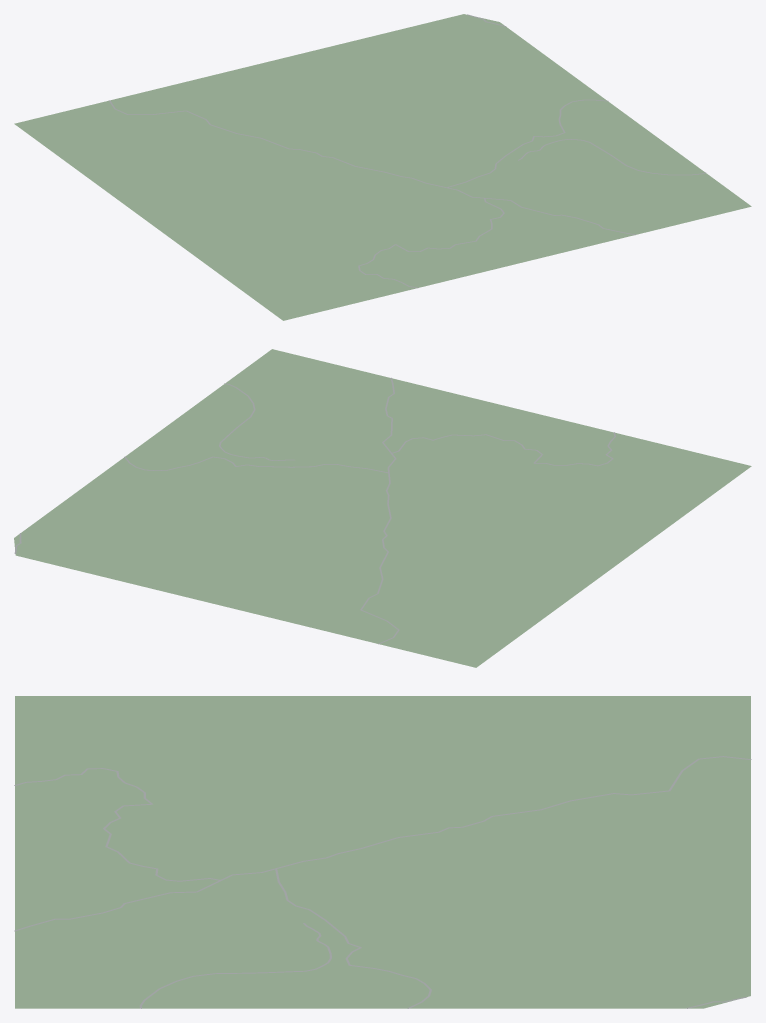
The model's file is -7_14-known-fine.glb.
The picture shows the model from 3 angles, top to bottom: view 1: azimuth 30°, elevation 25°; view 2: azimuth 150°, elevation 25°; view 3: azimuth 270°, elevation 25°; orthographic projection. The views are drawn at different scales.
Bounding box in the file's own units: 1001 × 0.1 × 997.
